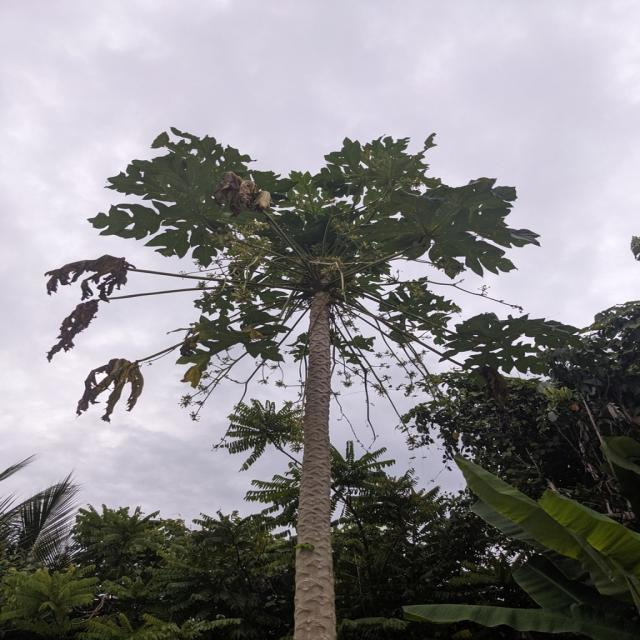Papaya-Tree: (42, 91, 511, 640)
